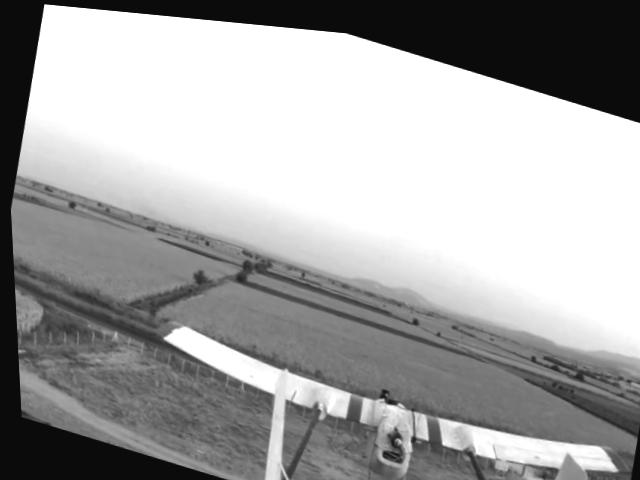hedef: (118, 293, 636, 480)
